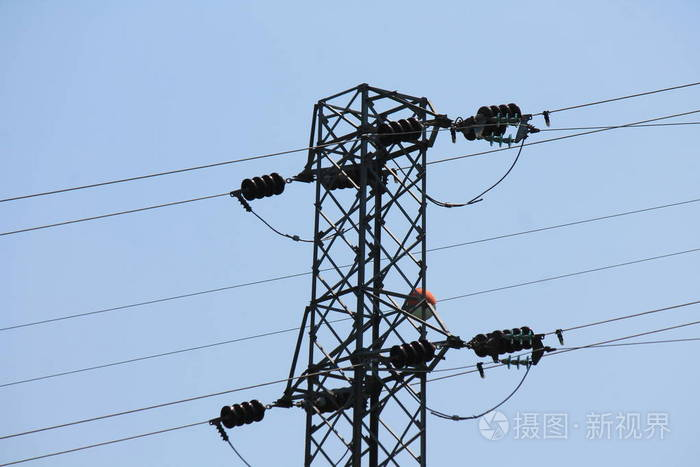insulator: (477, 327, 534, 358), (220, 400, 266, 430), (241, 173, 288, 202), (393, 338, 440, 367), (379, 117, 424, 145), (478, 103, 523, 125)
